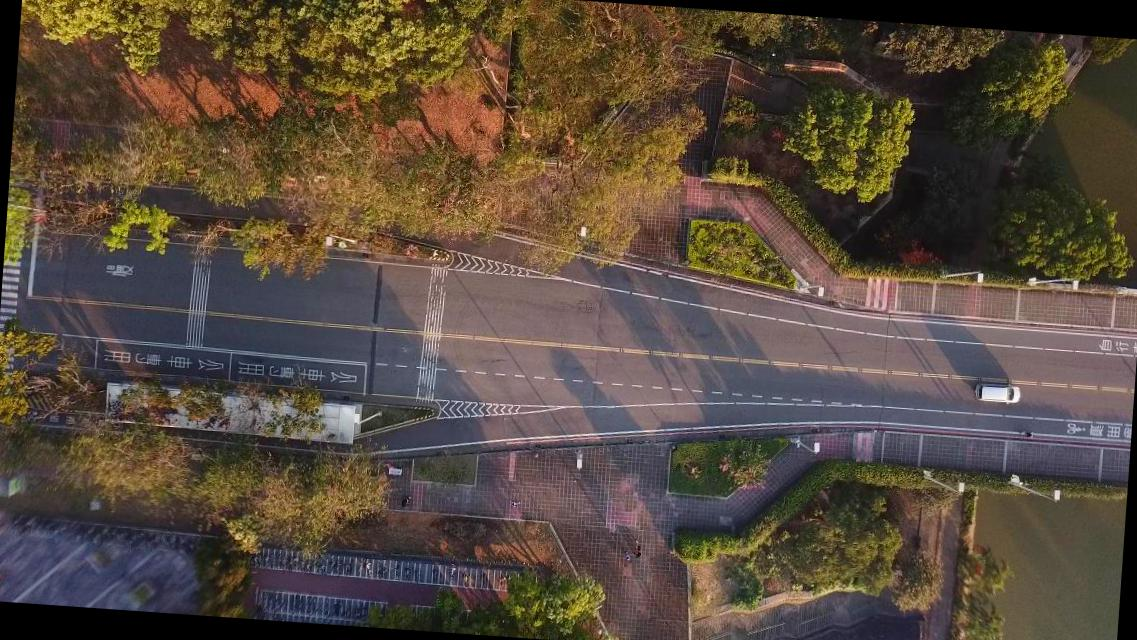vehicle: (974, 382, 1019, 404)
